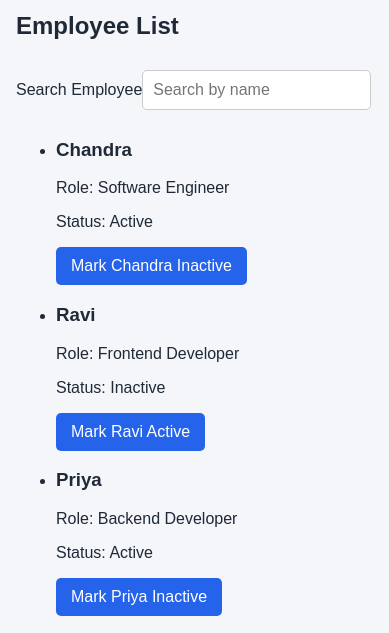
Scenario: EmployeeList Component › displays no employees found when search has no match
In the field labelled "Search Employee": (257, 90) [142,70,371,110], type "Unknown"
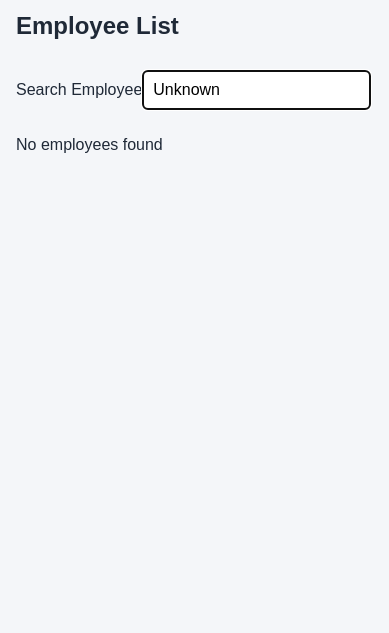
Expected: the text "No employees found" is shown, [16,136,163,153]
